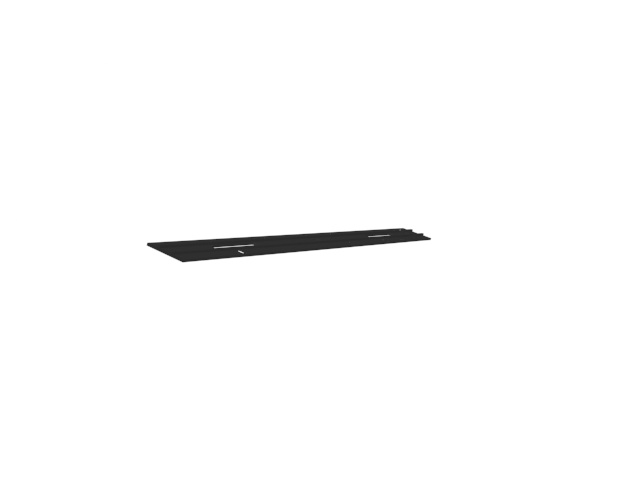ruler: (145, 225, 432, 264)
